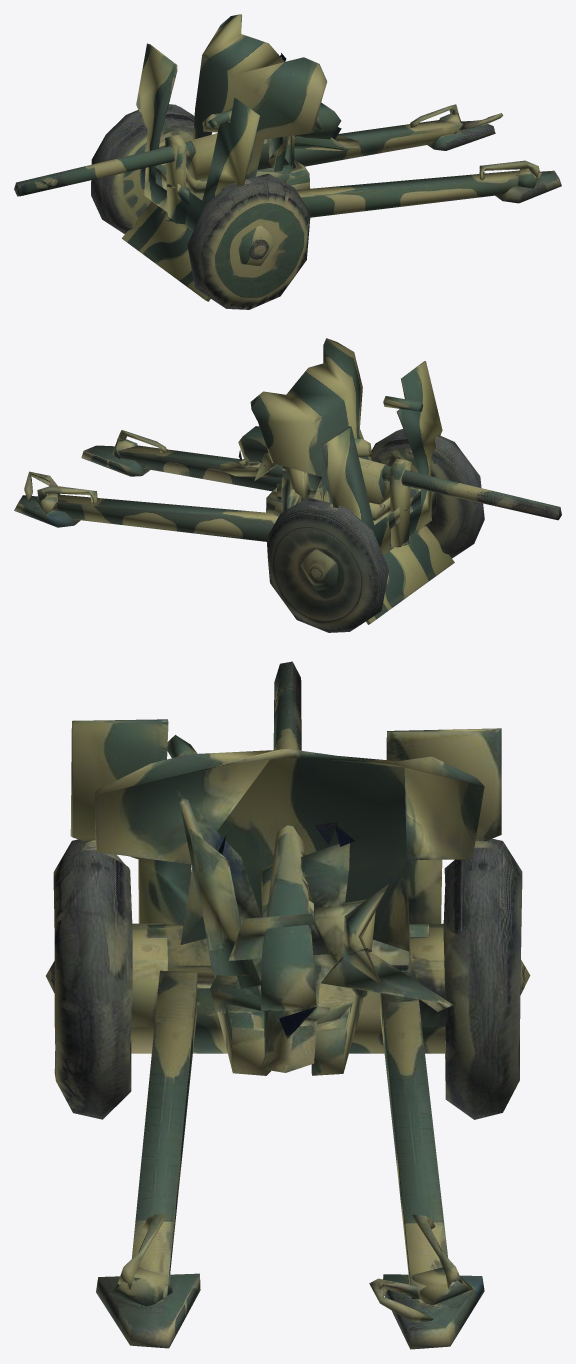
The model's file is french_at25.glb.
3 views of the same model, one above another, from view 1: azimuth 30°, elevation 25°; view 2: azimuth 150°, elevation 25°; view 3: azimuth 270°, elevation 25° (orthographic). The views are drawn at different scales.
Parts seen in each view (by area): view 1: hull, wheel_left, wheel_right; view 2: hull, wheel_right, wheel_left; view 3: hull, wheel_left, wheel_right.
Boxes of the visible parts, x1,y1,x2,y2 form: hull: [14, 14, 561, 300]; wheel_left: [187, 173, 310, 309]; wheel_right: [91, 104, 194, 234]; hull: [14, 338, 561, 623]; wheel_right: [266, 497, 388, 632]; wheel_left: [371, 429, 484, 558]; hull: [70, 661, 501, 1349]; wheel_left: [46, 839, 139, 1119]; wheel_right: [443, 838, 530, 1119].
Size of the model in its own units: 1 by 0.4014 by 0.4141.
1 material, 1 textured.
